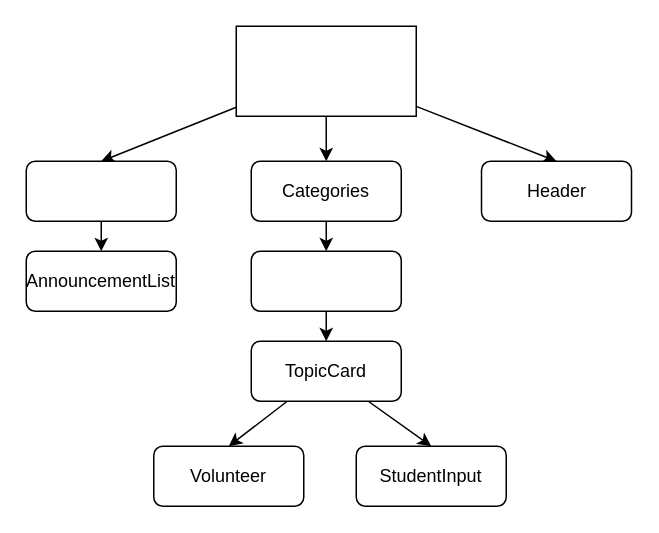
Image size: 659x533. Some labels were removed from this diagram. The centre of each missing label's shape, as x and y in pixels:
"Announcement" goes at pixel 100 190.
"App" goes at pixel 325 70.
"CategoriesList" goes at pixel 325 280.
